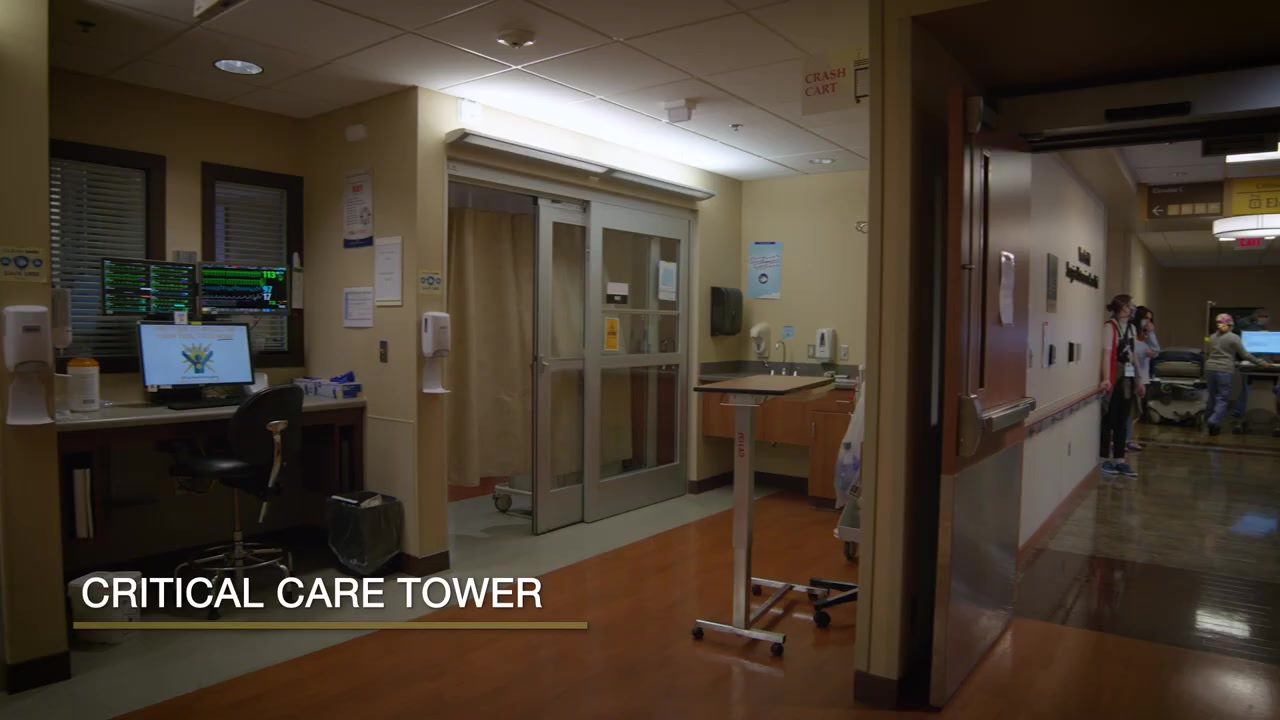chair: (162, 383, 307, 619)
computer: (138, 321, 254, 388), (103, 256, 196, 321), (199, 262, 294, 315), (1241, 330, 1280, 353)
countertop: (63, 386, 351, 426), (1240, 358, 1279, 367)
curtain: (449, 207, 632, 488)
dispenser: (1, 303, 56, 428), (420, 309, 453, 395), (710, 286, 743, 337), (51, 286, 74, 358), (814, 327, 836, 360), (750, 323, 769, 357)
door_handle: (539, 353, 551, 383)
faucet: (775, 339, 788, 376)
hallway_assist_bar: (1027, 385, 1107, 437)
handle: (835, 398, 851, 405), (811, 421, 816, 440)
iv_pole: (1205, 298, 1215, 337), (854, 217, 868, 233)
keyboard: (164, 396, 242, 412)
light_switch: (378, 339, 389, 363)
overbed_table: (691, 373, 837, 658)
person: (1099, 294, 1145, 478), (1123, 305, 1160, 452)
push_latch: (953, 395, 1036, 468)
sink: (698, 372, 856, 389)
staff: (1203, 312, 1271, 437)
waste_bin: (325, 490, 402, 580), (65, 568, 144, 646)
